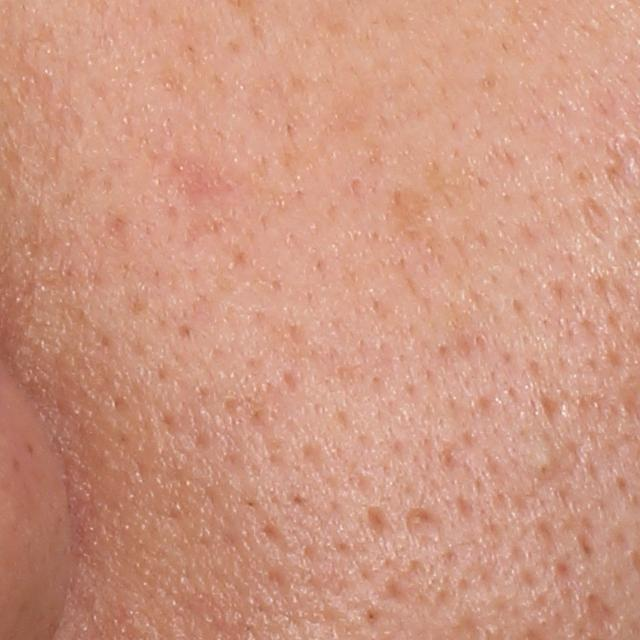atrophic_scar: (572, 198, 623, 253), (400, 510, 445, 550), (587, 592, 617, 636), (364, 504, 399, 538), (543, 392, 577, 426)
